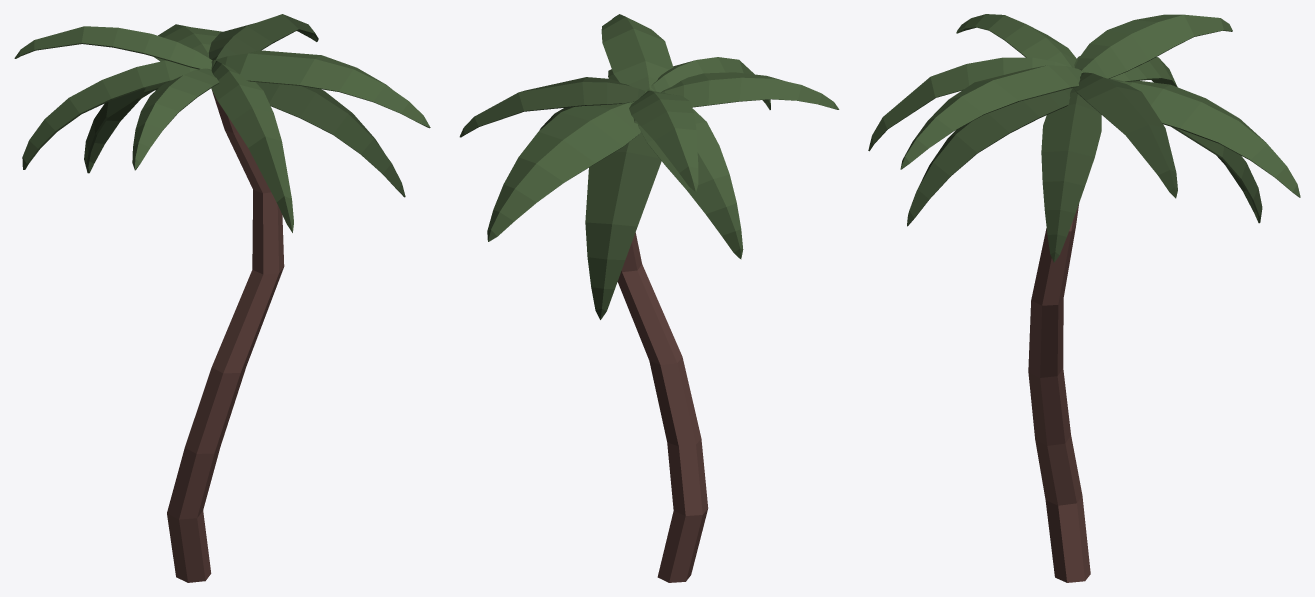
Rendered from PalmTree_3.glb.
3 renders of one model, left to right at view 1: azimuth 30°, elevation 25°; view 2: azimuth 150°, elevation 25°; view 3: azimuth 270°, elevation 25°, orthographic. The views are drawn at different scales.
Visible parts, largest first — view 1: PalmTree_3; view 2: PalmTree_3; view 3: PalmTree_3.
Part boxes in pixels (x1,y1,x2,y2): PalmTree_3: (14, 14, 430, 582); PalmTree_3: (459, 14, 839, 582); PalmTree_3: (868, 14, 1300, 582).
Size of the model in its own units: 1.31 by 2.23 by 1.63.
